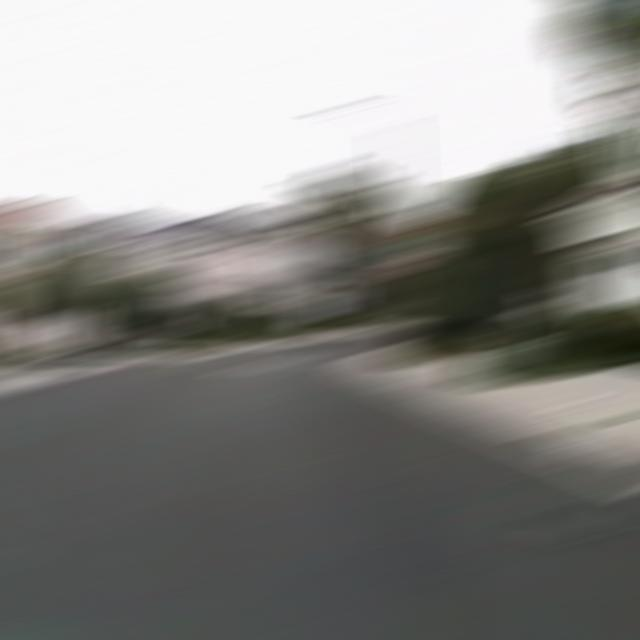stop_sign: (381, 264, 419, 283)
